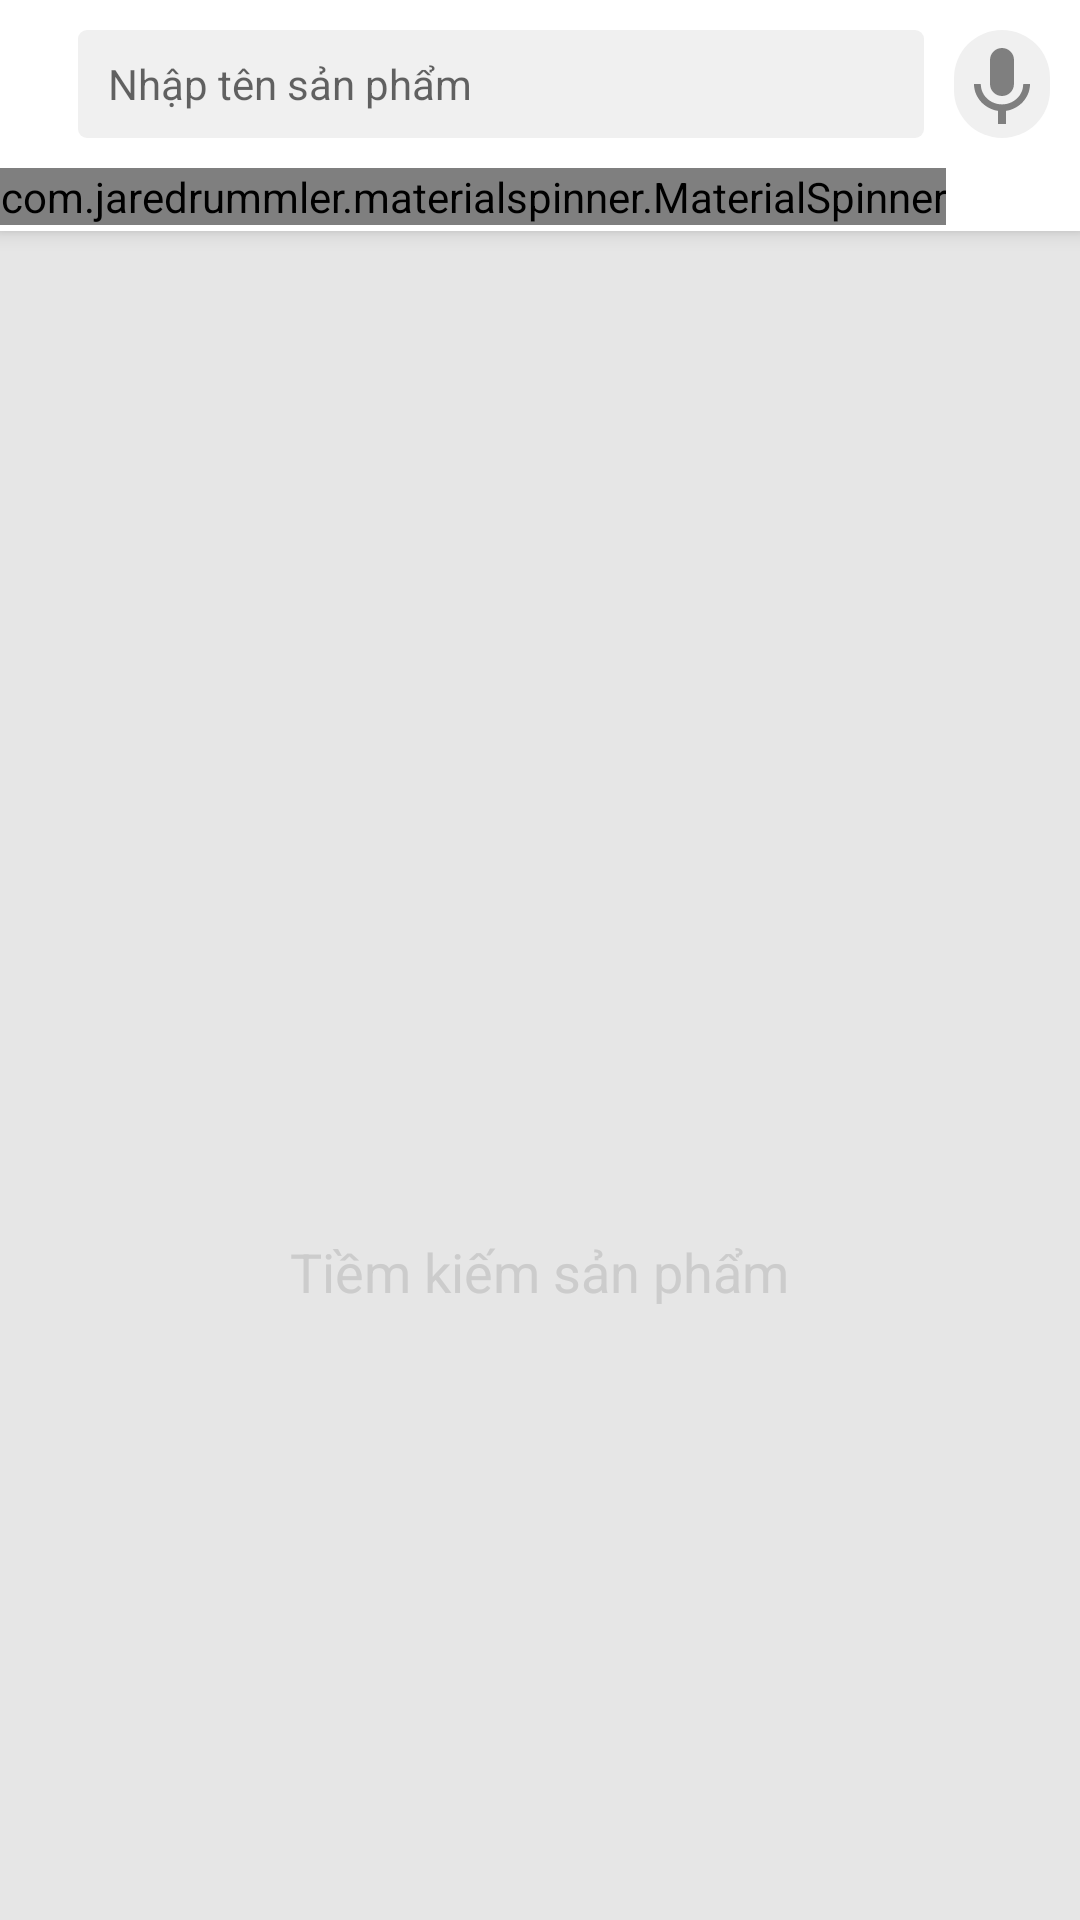

Locate icon controls on the screen. Image size 1080 x 1920, boxes as (x1, y1, x2, y2).
voice: (954, 30, 1050, 138)
